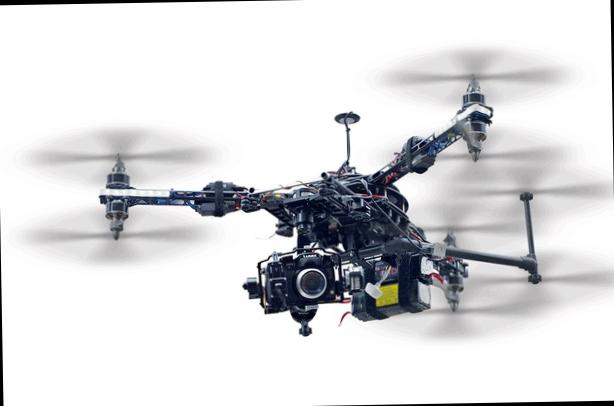drone: (32, 66, 605, 338)
